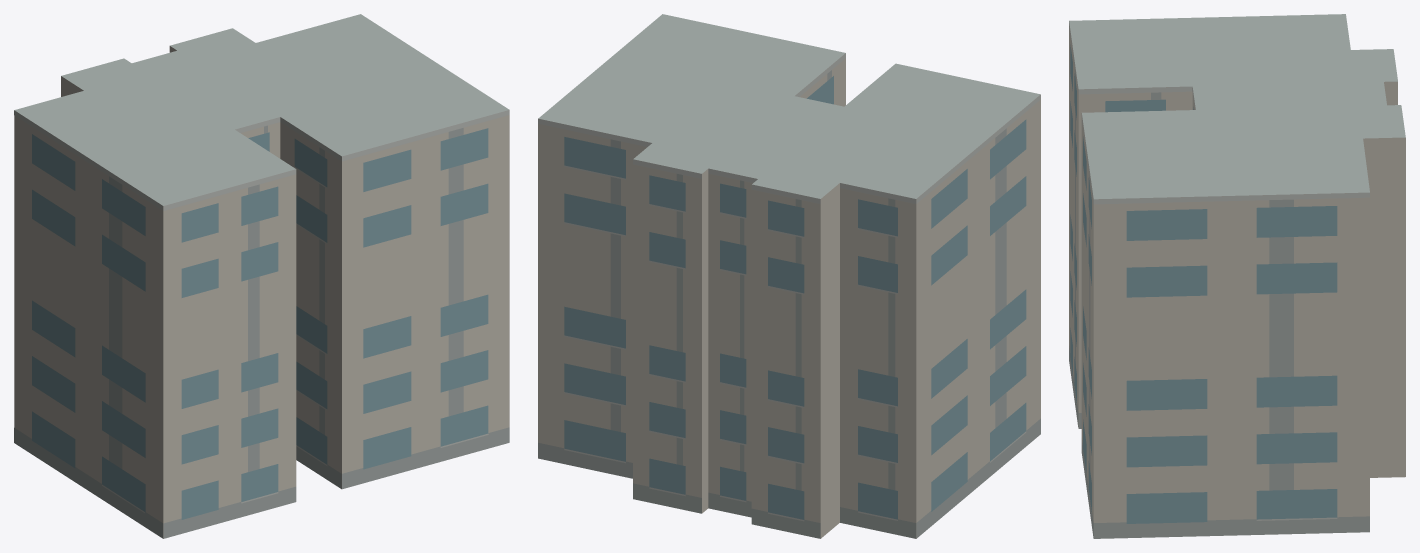
The model's file is survey-upis-33033450.glb.
3 renders of one model, left to right at view 1: azimuth 30°, elevation 25°; view 2: azimuth 150°, elevation 25°; view 3: azimuth 270°, elevation 25°, orthographic. The views are drawn at different scales.
Visible parts, largest first — view 1: survey-upis-33033450.tmp; view 2: survey-upis-33033450.tmp; view 3: survey-upis-33033450.tmp.
Part boxes in pixels (x1=…): survey-upis-33033450.tmp: x1=14, y1=14, x2=509, y2=538; survey-upis-33033450.tmp: x1=538, y1=14, x2=1040, y2=538; survey-upis-33033450.tmp: x1=1069, y1=14, x2=1405, y2=538.
Bounding box in the file's own units: 18.72 × 16 × 14.39.
